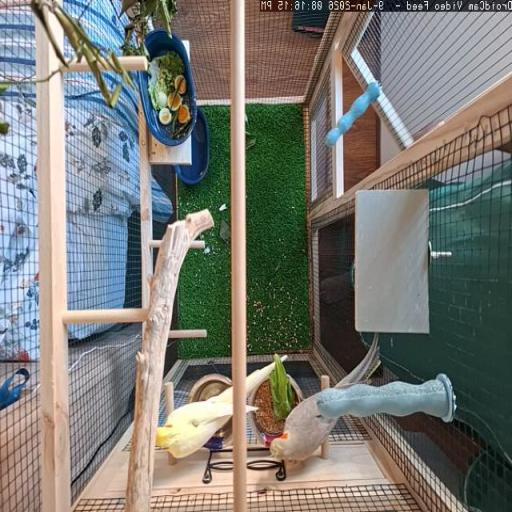bebedero: (189, 373, 231, 402), (206, 418, 232, 447)
comedero: (250, 363, 303, 445)
ninfa: (157, 398, 233, 457), (272, 393, 337, 460), (336, 335, 380, 387), (247, 364, 274, 383)
